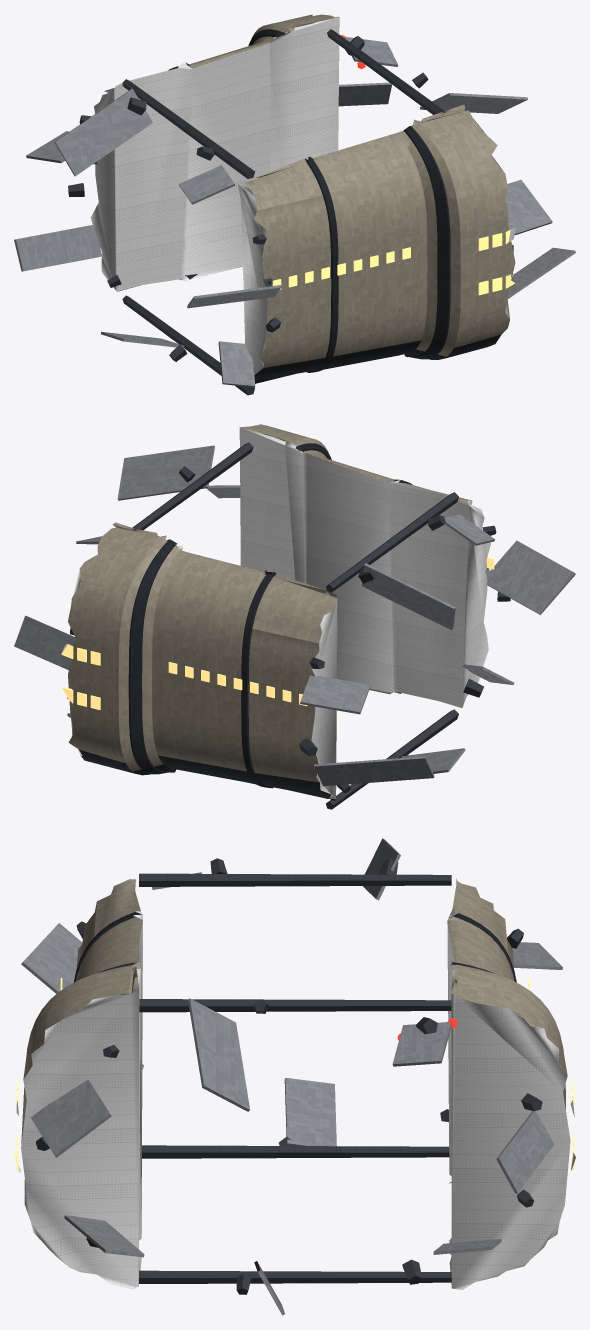
The model's file is wreck_liner_drum__fresh.glb.
3 views of the same model, one above another, from view 1: azimuth 30°, elevation 25°; view 2: azimuth 150°, elevation 25°; view 3: azimuth 270°, elevation 25° (orthographic). The views are drawn at different scales.
Visible parts, largest first — view 1: Drum, Drum.001, woundA_t_tear5, woundA_t_tear0, woundB_t_tear3, BhRib01, woundA_t_tear2, woundB_t_tear2, BhRib11, BhRib00, woundA_t_tear4, woundB_t_tear4 (+5 smaller); view 2: Drum.001, Drum, woundA_t_tear3, woundB_t_tear2, woundA_t_tear0, woundA_t_tear5, woundA_t_tear6, woundB_t_tear0, BhRib01, BhRib11, BhRib00, woundA_t_tear4 (+1 smaller); view 3: Drum.001, Drum, woundB_t_tear2, BhRib01, BhRib00, BhRib11, BhRib10, woundA_t_tear1, woundB_t_tear3, woundA_t_tear3, woundB_t_tear0, woundB_t_tear1 (+4 smaller).
Part boxes in pixels (x1,y1,x2,y2): Drum: (238,104,515,387); Drum.001: (90,14,339,291); woundA_t_tear5: (54,88,152,176); woundA_t_tear0: (14,225,102,271); woundB_t_tear3: (505,179,552,234); BhRib01: (122,79,255,178); woundA_t_tear2: (218,341,255,387); woundB_t_tear2: (420,93,527,113); BhRib11: (327,29,444,114); BhRib00: (122,295,254,395); woundA_t_tear4: (179,165,234,204); woundB_t_tear4: (507,247,575,298); Drum.001: (68,522,337,800); Drum: (239,424,490,707); woundA_t_tear3: (487,540,575,614); woundB_t_tear2: (117,445,214,500); woundA_t_tear0: (314,756,434,786); woundA_t_tear5: (361,563,455,630); woundA_t_tear6: (300,675,370,714); woundB_t_tear0: (14,615,75,670); BhRib01: (326,492,458,592); BhRib11: (132,442,253,530); BhRib00: (326,709,458,809); woundA_t_tear4: (444,514,494,545); Drum.001: (447,878,570,1289); Drum: (21,879,142,1289); woundB_t_tear2: (188,998,249,1111); BhRib01: (139,873,451,886); BhRib00: (142,1145,449,1158); BhRib11: (139,999,451,1012); BhRib10: (139,1270,451,1283); woundA_t_tear1: (284,1077,336,1146); woundB_t_tear3: (30,1080,111,1157); woundA_t_tear3: (21,923,82,993); woundB_t_tear0: (496,1111,554,1193); woundB_t_tear1: (392,1022,451,1066).
Bounding box in the file's own units: 79.62 × 45.76 × 74.12.
10 materials, 8 textured.
